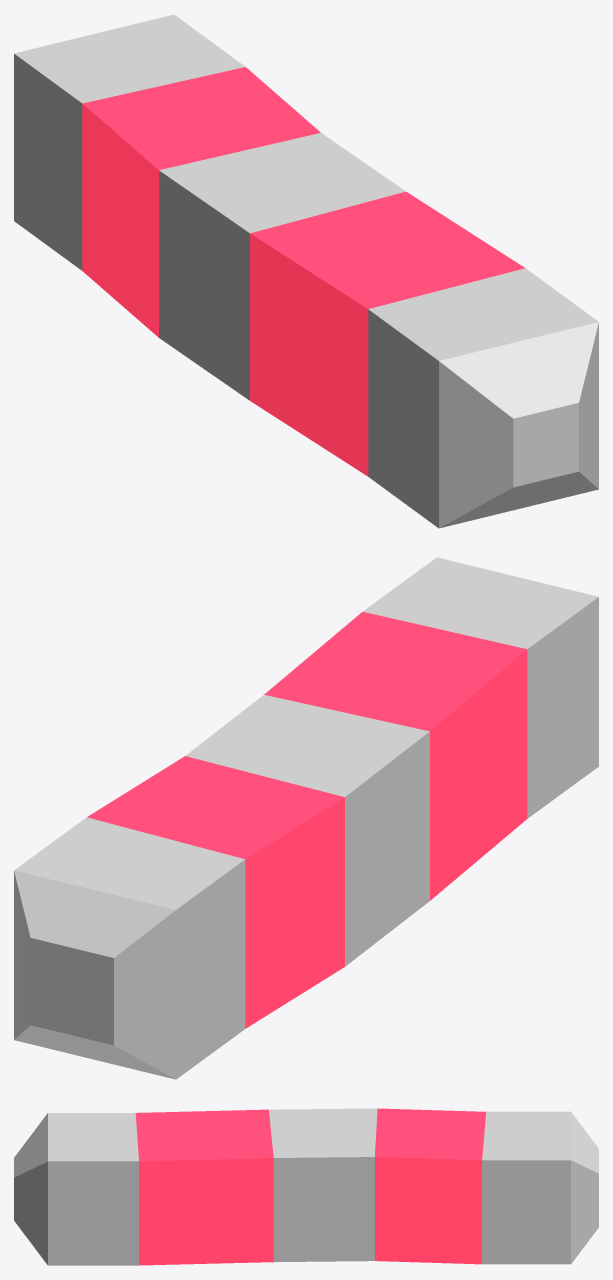
The model's file is worm.fbx.
The picture shows the model from 3 angles, top to bottom: view 1: azimuth 30°, elevation 25°; view 2: azimuth 150°, elevation 25°; view 3: azimuth 270°, elevation 25°; orthographic projection. The views are drawn at different scales.
Visible parts, largest first — view 1: worm; view 2: worm; view 3: worm.
Part boxes in pixels (x1=…): worm: x1=14, y1=14, x2=598, y2=528; worm: x1=14, y1=557, x2=598, y2=1079; worm: x1=14, y1=1108, x2=598, y2=1265.
Size of the model in its own units: 4.44 by 4.07 by 20.73.
